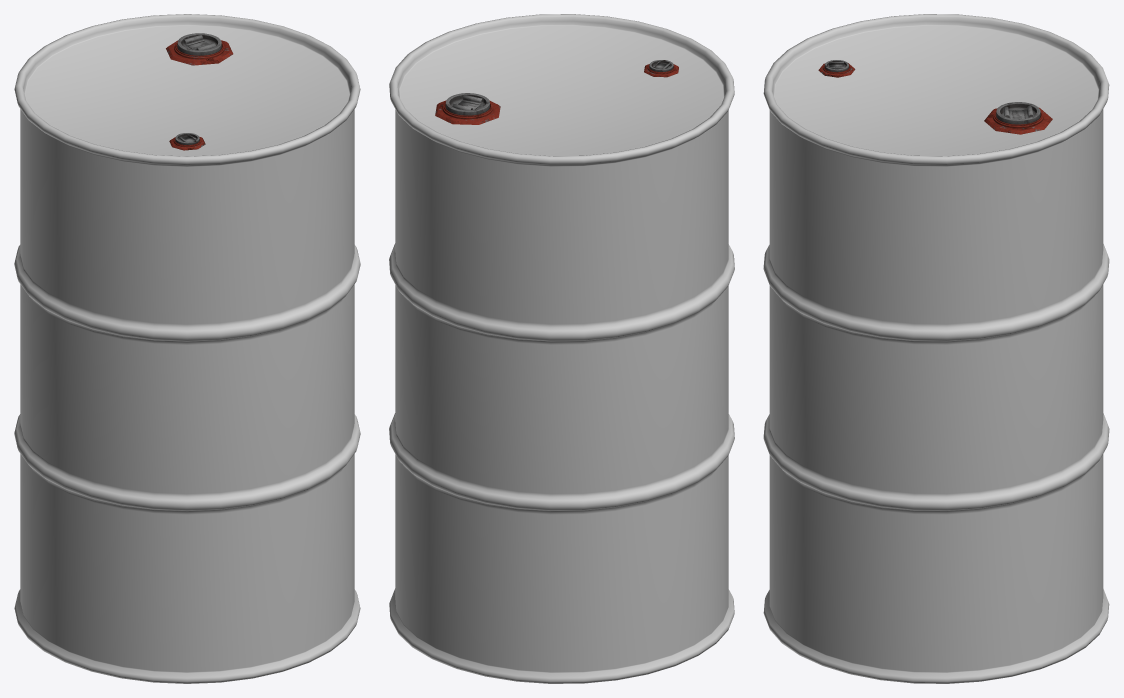
File: ExplosiveBarrel.fbx
3 views of the same model, side by side, from view 1: azimuth 30°, elevation 25°; view 2: azimuth 150°, elevation 25°; view 3: azimuth 270°, elevation 25° (orthographic).
Visible parts, largest first — view 1: ExplosiveBarrel; view 2: ExplosiveBarrel; view 3: ExplosiveBarrel.
Boxes of the visible parts, x1,y1,x2,y2 form: ExplosiveBarrel: [14, 14, 360, 683]; ExplosiveBarrel: [389, 14, 734, 683]; ExplosiveBarrel: [763, 14, 1109, 683].
Size of the model in its own units: 20.56 by 34.54 by 20.56.
